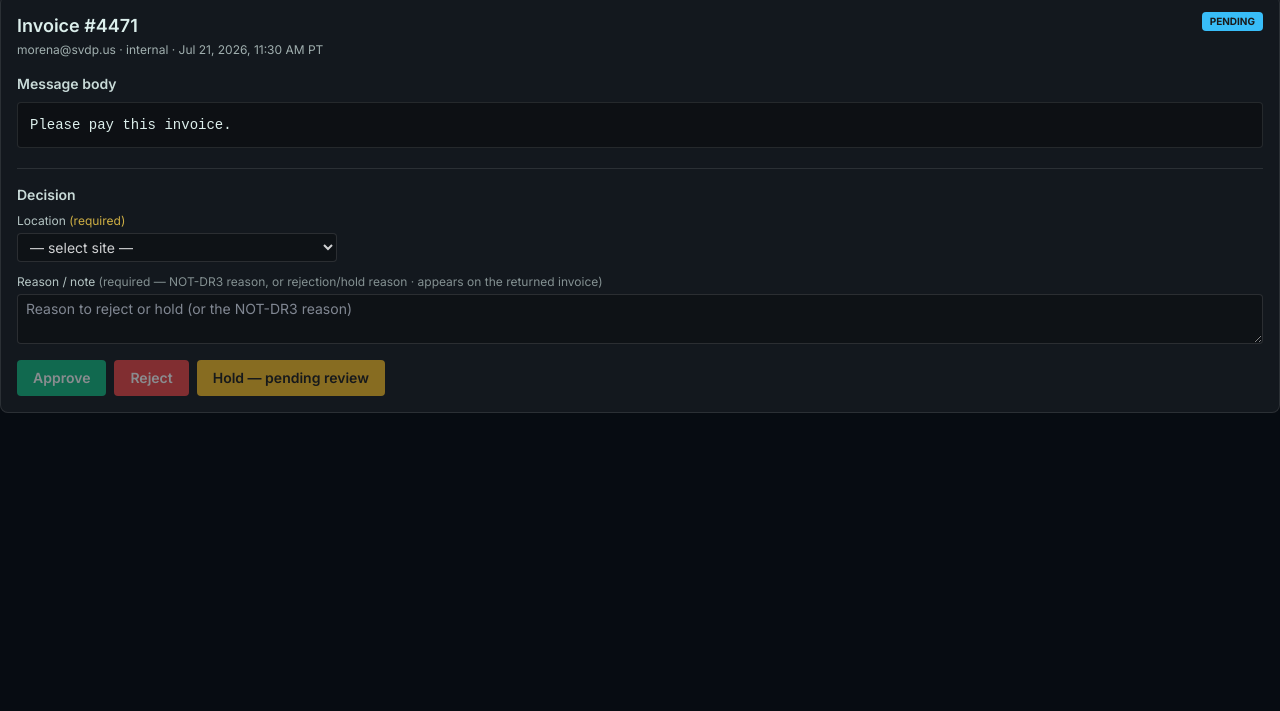
Test case: DetailPanel — structured "Equipment not in list" hatch (ADR-0135 E) › replaces the free-text paragraph with type / unit # / make / notes
This screenshot has width=1280, height=711.
Select "Woodland" in the dropdown at (177, 248), box x1=17 y1=233 x2=337 y2=262
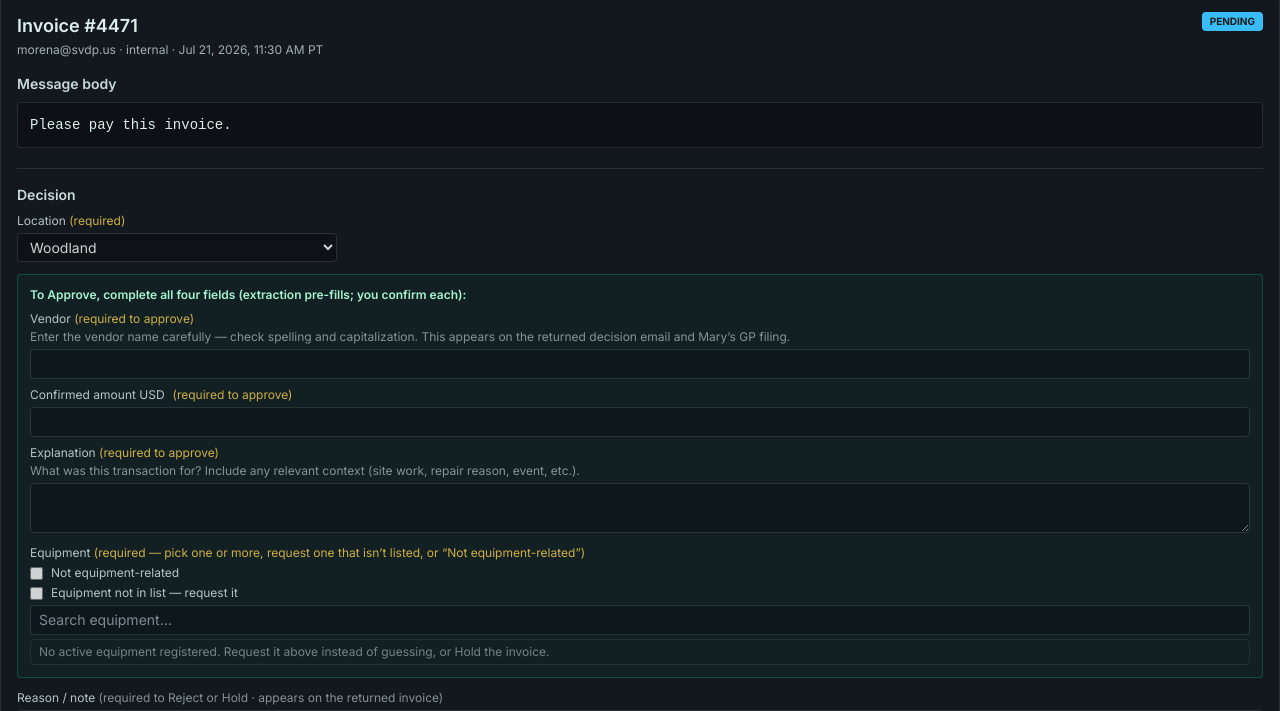
Type "Sunbelt Rentals" into the field labelled "Enter the vendor name carefully" at (640, 364), box x1=30 y1=349 x2=1250 y2=379
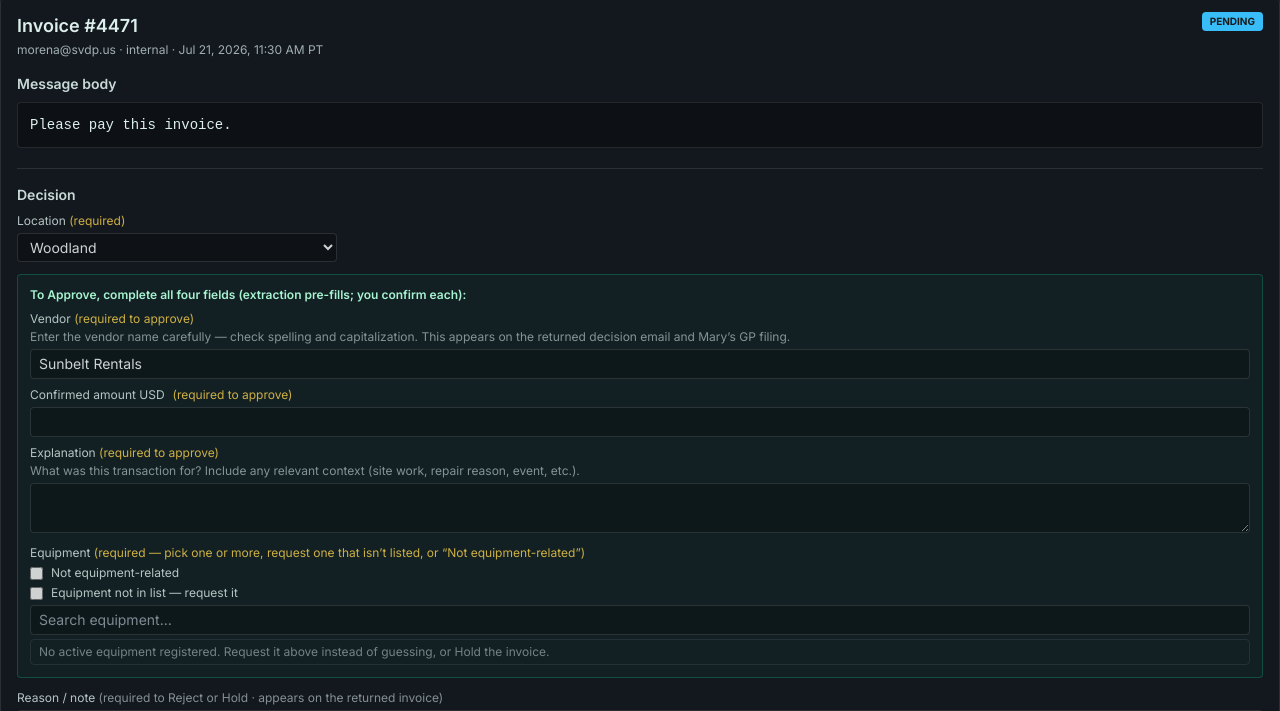
Type "125.00" into the field labelled "Confirmed amount USD (required to approve)" at (640, 422), box x1=30 y1=407 x2=1250 y2=437
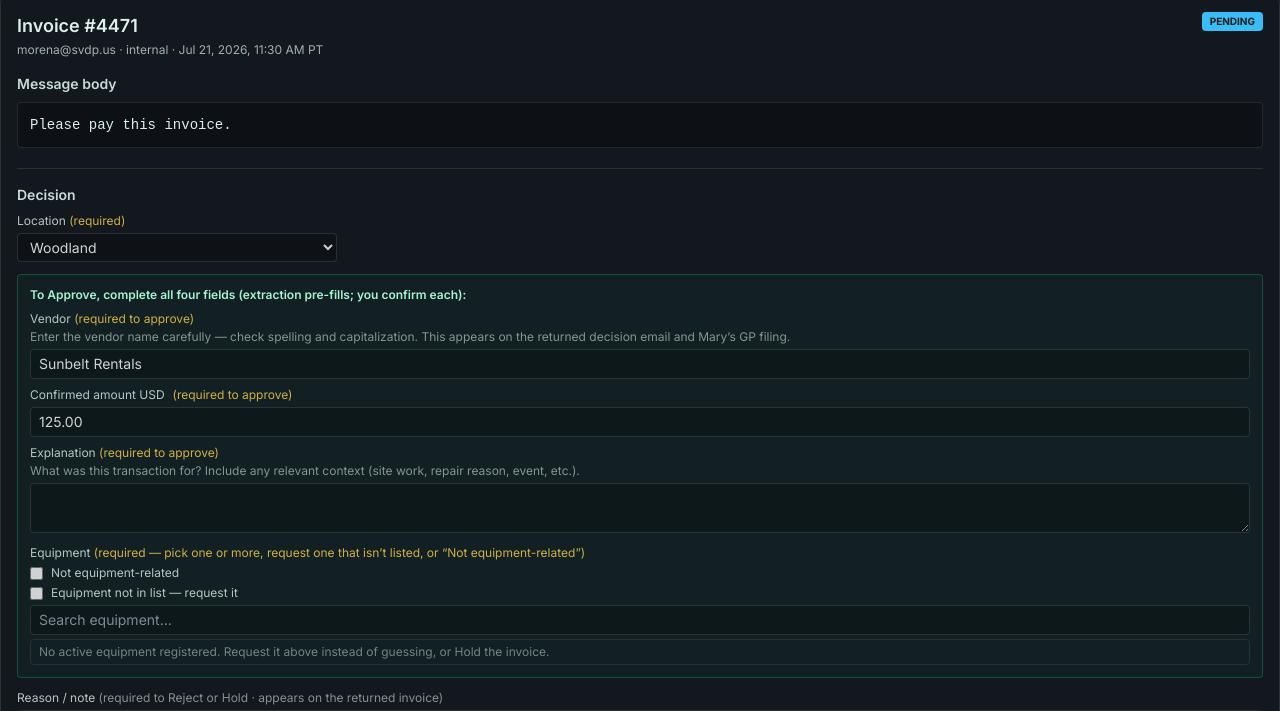
Type "trailer repair" into the text box labelled "What was this transaction for" at (640, 508), box x1=30 y1=483 x2=1250 y2=533
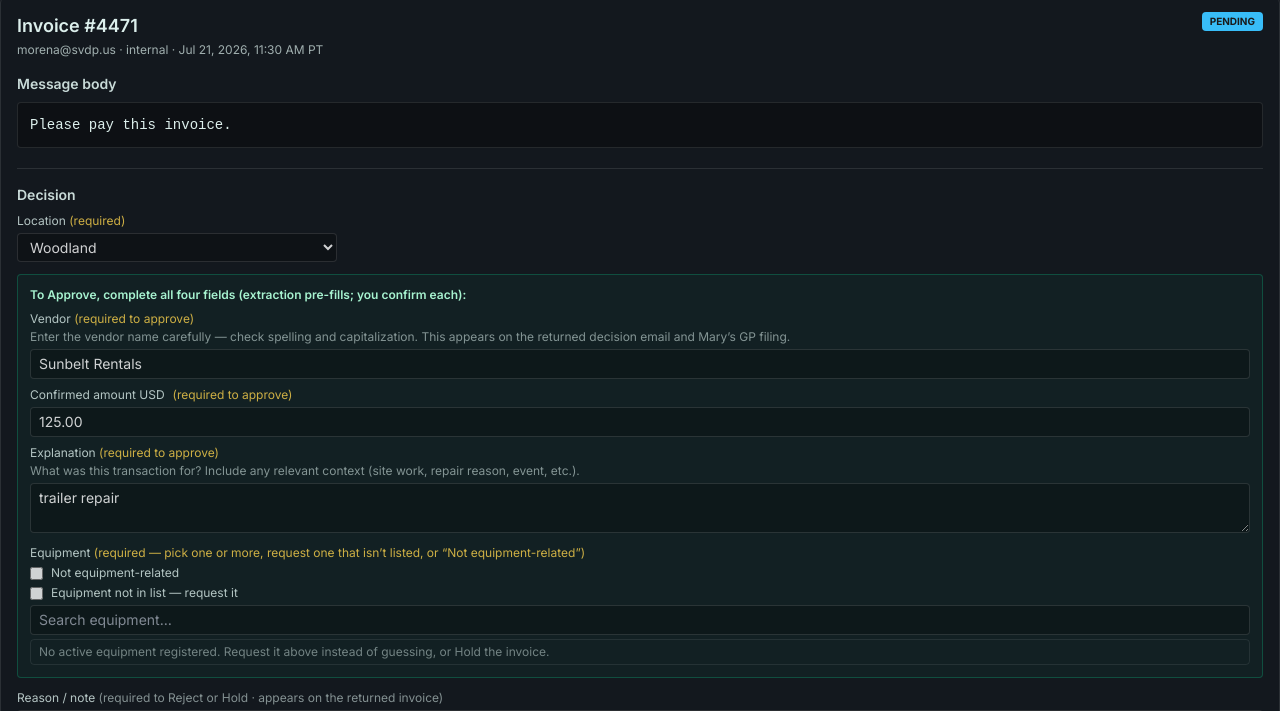
Click the checkbox with test id "ap-equipment-not-listed" at (36, 593), box x1=30 y1=586 x2=43 y2=600
(page scrolled)
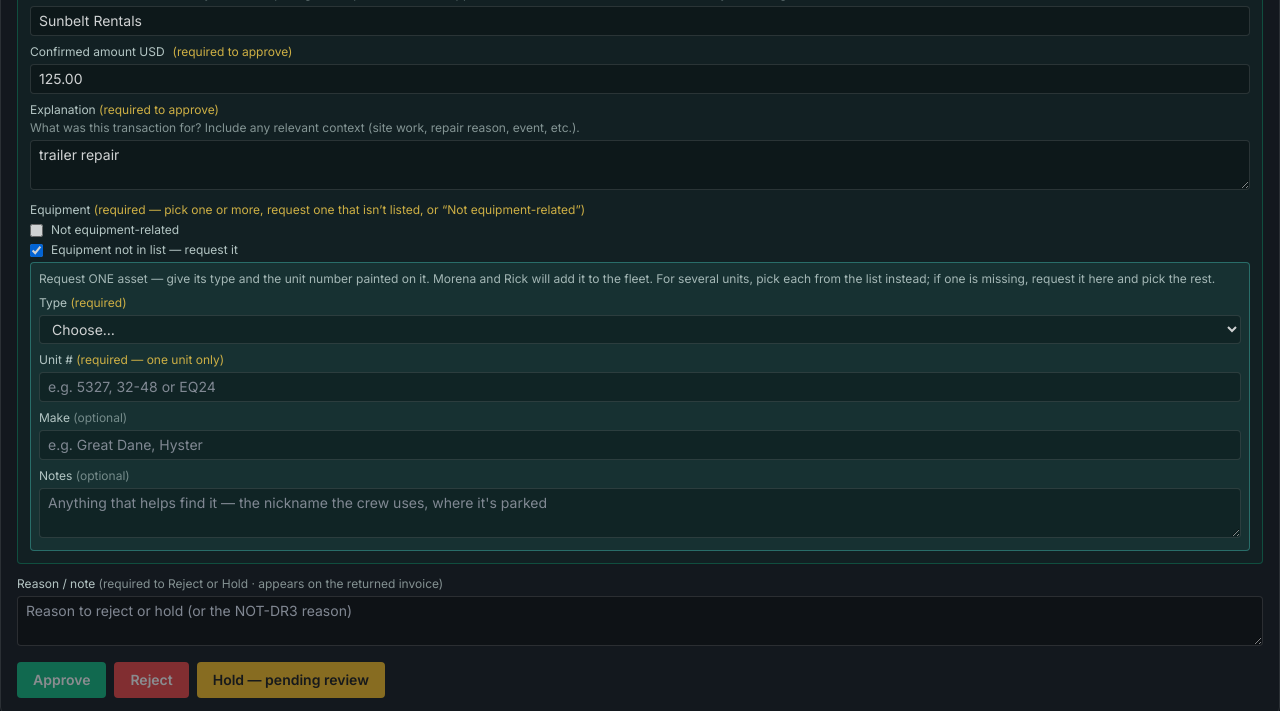
Expected: the dropdown with test id "ap-equipment-request-type" is shown, x1=39 y1=315 x2=1241 y2=344
Expected: the field with test id "ap-equipment-request-unit" is shown, x1=39 y1=372 x2=1241 y2=402
Expected: the field with test id "ap-equipment-request-make" is shown, x1=39 y1=430 x2=1241 y2=460
